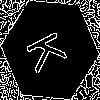K: (25, 25, 75, 75)
